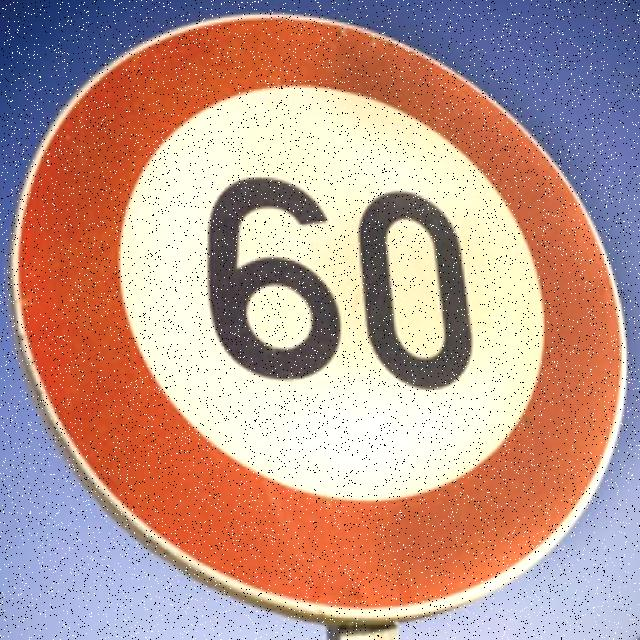Ograniczenie predkosci do 60: (11, 11, 624, 621)
